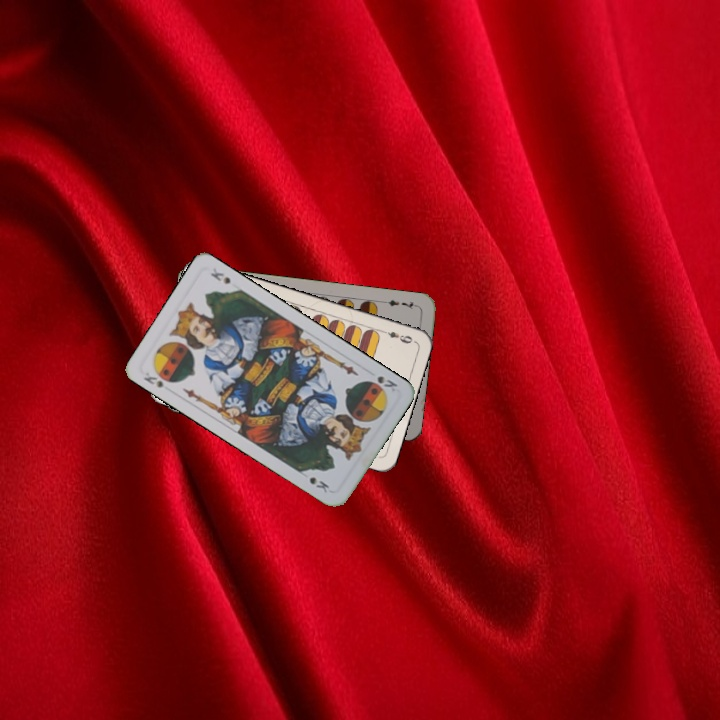E7: (380, 295, 420, 311)
E9: (377, 326, 415, 346)
SK: (139, 368, 167, 390), (373, 372, 400, 394)
